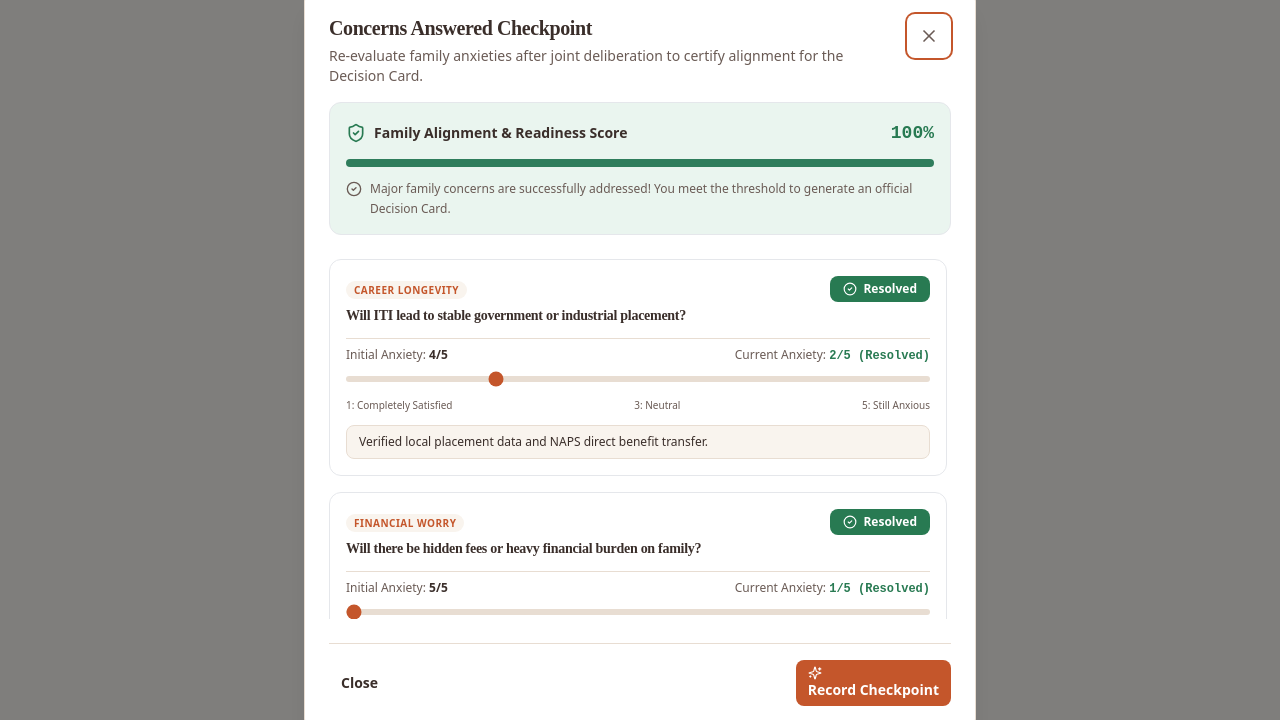
Test: Phase 6 Frontend Components Test Suite › ConcernsCheckpointModal › evaluates family concerns and computes dynamic readiness score
Check: the heading "Concerns Answered Checkpoint" is shown, box [329, 17, 592, 39]
Check: the text "Family Alignment & Readiness Score" is shown, box [374, 123, 627, 143]
Click the button "Record Checkpoint" at [873, 683], box [796, 660, 951, 706]
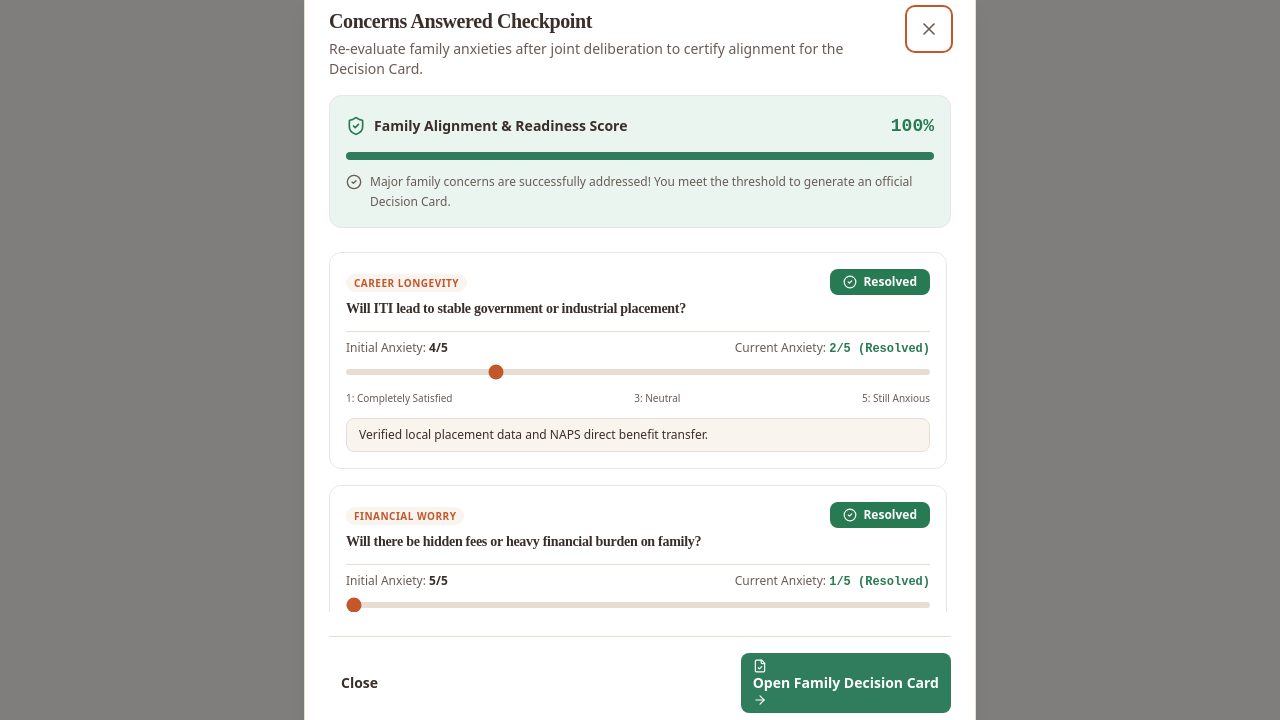
Check: the button "Open Family Decision Card" is shown, box [741, 653, 951, 713]
